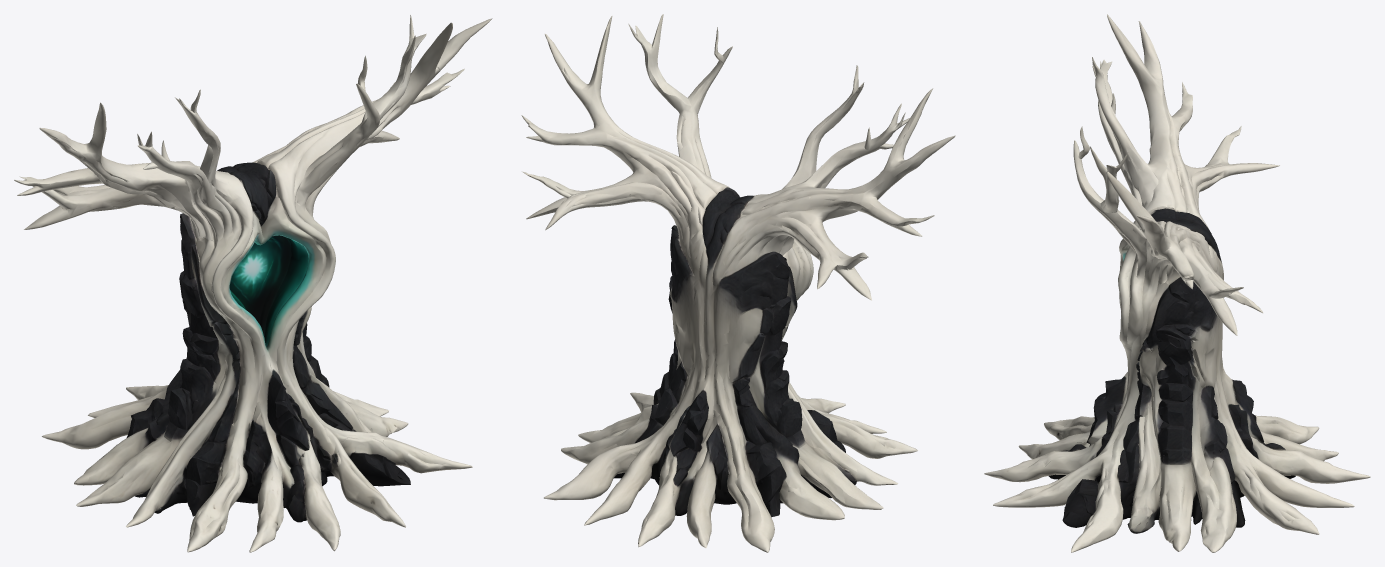
Rendered from landmark_neural_tree.glb.
The picture shows the model from 3 angles, left to right: view 1: azimuth 30°, elevation 25°; view 2: azimuth 150°, elevation 25°; view 3: azimuth 270°, elevation 25°; orthographic projection. The views are drawn at different scales.
Visible parts, largest first — view 1: model; view 2: model; view 3: model.
Part boxes in pixels (x1,y1,x2,y2): model: [14, 15, 492, 552]; model: [521, 14, 955, 552]; model: [984, 14, 1370, 552].
Size of the model in its own units: 1.9 by 1.77 by 1.59.
Materials: 1 (1 with a texture image).
